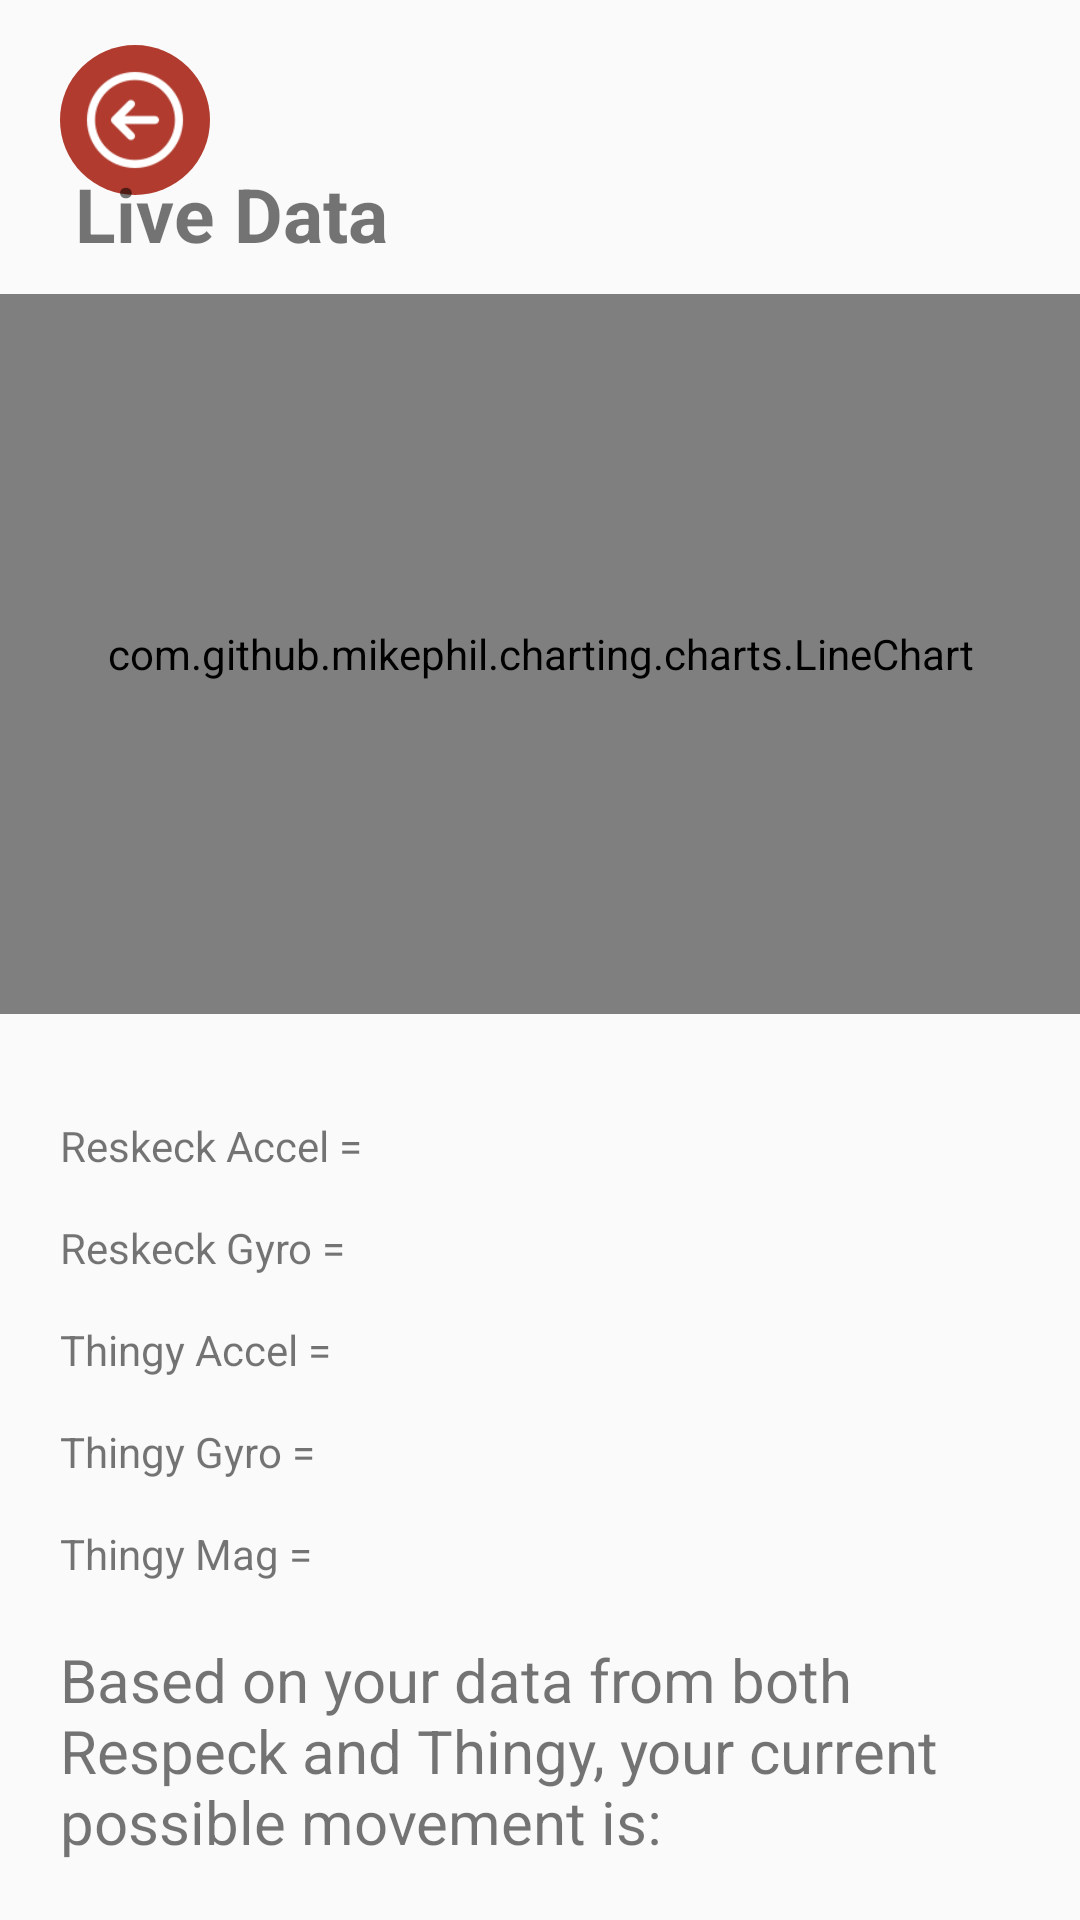

Screen size 1080w x 1920h. Icon name, then its center in pixels as (x,y):
back: (135,120)
